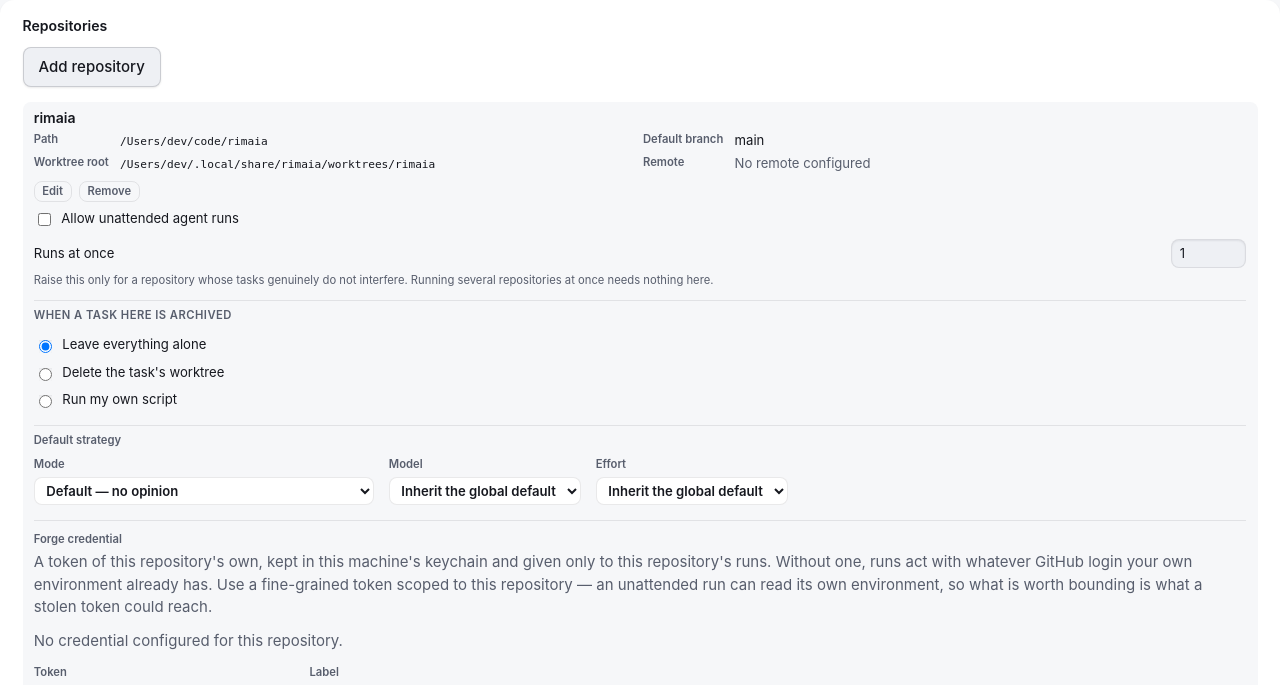
Scenario: RepositoriesSection › reverts the row's strategy dropdown and shows the backend's refusal when the write fails
This screenshot has width=1280, height=685.
Select "Opus" in the dropdown labelled "Model" at (485, 491), box left=389, top=477, right=581, bottom=504
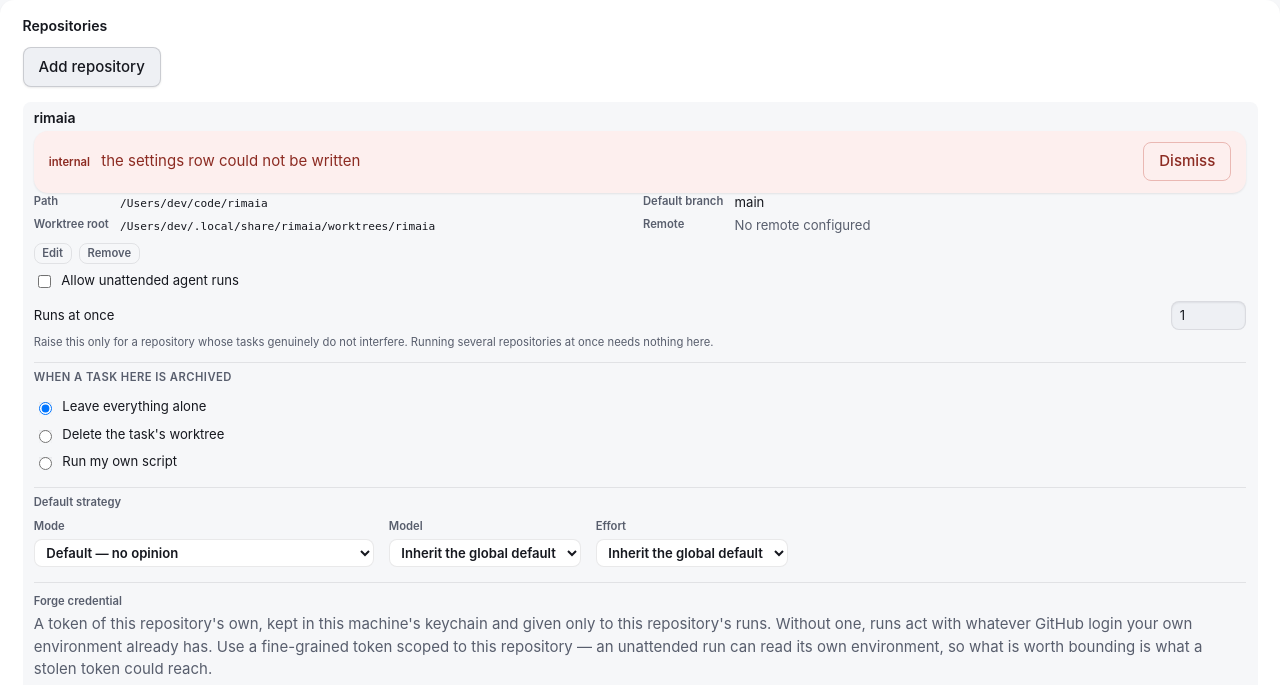
Now the message shows "the settings row could not be written", box left=101, top=151, right=360, bottom=170
